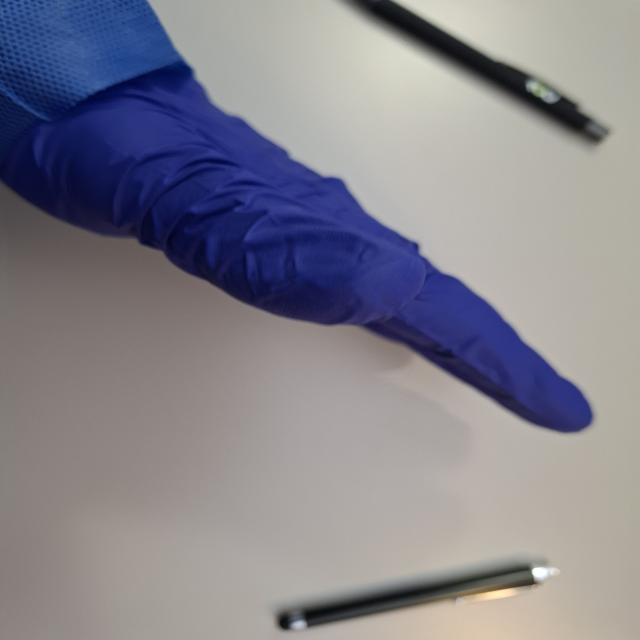glove_on: (0, 49, 597, 439)
